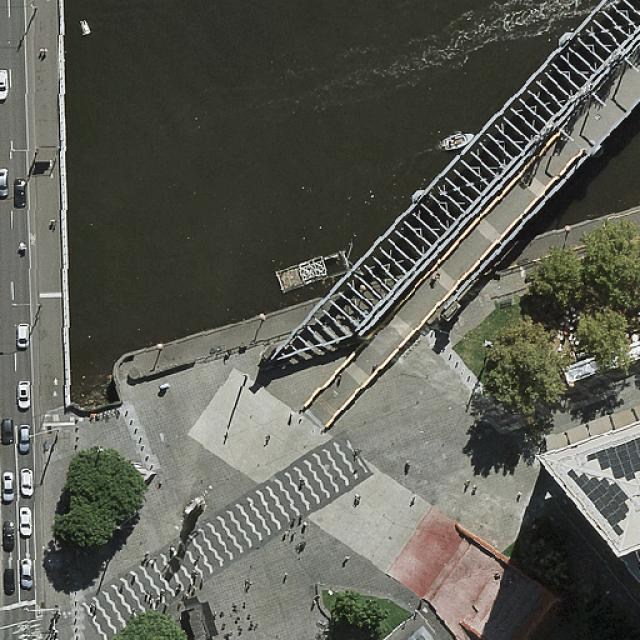Bike-Symbols: (29, 232, 37, 247), (36, 605, 42, 615)
